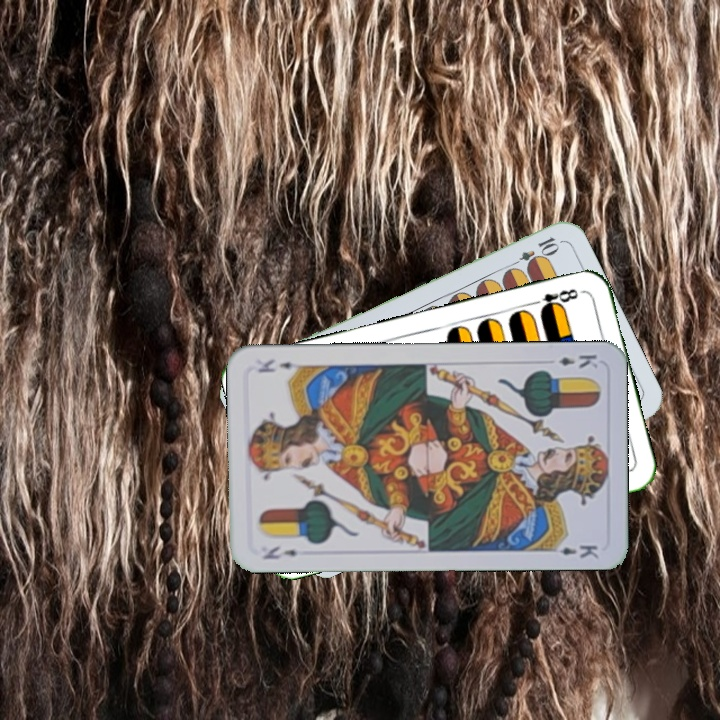E10: (505, 232, 561, 272)
E8: (526, 284, 585, 315)
EK: (554, 350, 600, 370), (259, 542, 300, 562)
